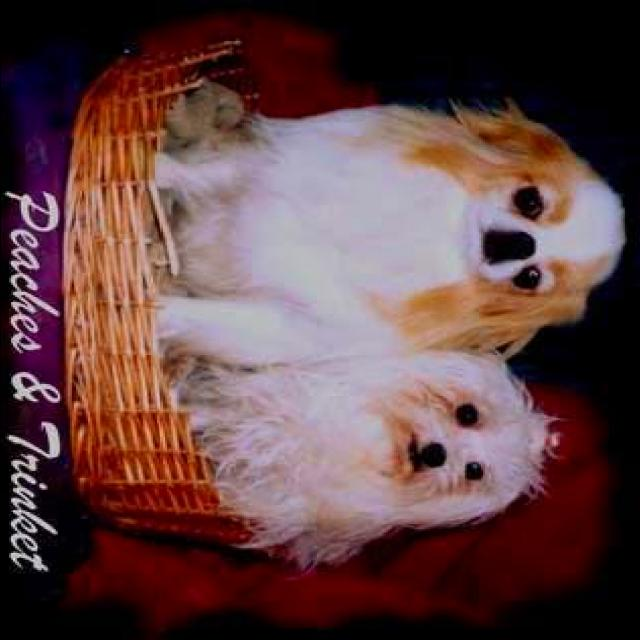husky: (156, 110, 626, 362), (152, 340, 576, 580)
